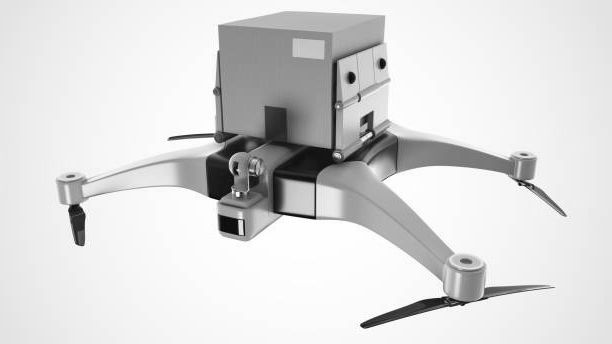Drone: (52, 119, 569, 330)
